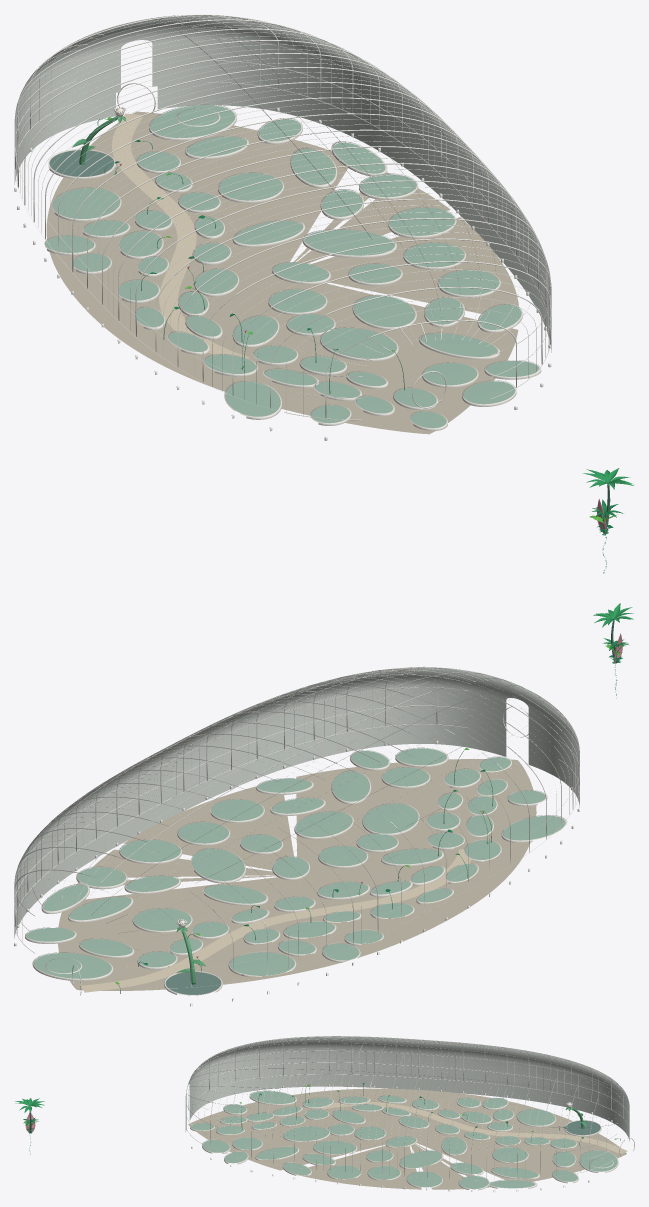
Rendered from greenhouse.glb.
3 renders of one model, top to bottom at view 1: azimuth 30°, elevation 25°; view 2: azimuth 150°, elevation 25°; view 3: azimuth 270°, elevation 25°, orthographic. The views are drawn at different scales.
Parts seen in each view (by area): view 1: greenhouse.floor, greenhouse.soil.001, greenhouse.shell, greenhouse.curb.001, greenhouse.iron.006, greenhouse.iron.001, greenhouse.iron.002, greenhouse.path, greenhouse.iron.007, greenhouse.soil.002, greenhouse.iron.003, greenhouse.iron.005 (+4 smaller); view 2: greenhouse.shell, greenhouse.floor, greenhouse.soil.001, greenhouse.curb.001, greenhouse.iron.001, greenhouse.iron.002, greenhouse.path, greenhouse.iron.006, greenhouse.soil.002, greenhouse.iron.007, greenhouse.iron.005, greenhouse.water (+3 smaller); view 3: greenhouse.shell, greenhouse.floor, greenhouse.soil.001, greenhouse.curb.001, greenhouse.iron.001, greenhouse.iron.006, greenhouse.path, greenhouse.iron.007, greenhouse.iron.002, greenhouse.soil.002, greenhouse.iron.003, greenhouse.iron.005 (+5 smaller).
Boxes of the visible parts, bbox=[...] form: greenhouse.floor: bbox=[46, 111, 518, 434]; greenhouse.soil.001: bbox=[45, 130, 539, 428]; greenhouse.shell: bbox=[14, 15, 551, 352]; greenhouse.curb.001: bbox=[44, 150, 541, 430]; greenhouse.iron.006: bbox=[48, 14, 443, 378]; greenhouse.iron.001: bbox=[271, 124, 551, 409]; greenhouse.iron.002: bbox=[213, 33, 477, 229]; greenhouse.path: bbox=[112, 113, 249, 358]; greenhouse.iron.007: bbox=[57, 201, 255, 418]; greenhouse.soil.002: bbox=[150, 105, 301, 156]; greenhouse.iron.003: bbox=[14, 50, 128, 224]; greenhouse.iron.005: bbox=[152, 15, 354, 135]; greenhouse.shell: bbox=[14, 667, 579, 938]; greenhouse.floor: bbox=[58, 759, 536, 990]; greenhouse.soil.001: bbox=[43, 748, 565, 975]; greenhouse.curb.001: bbox=[48, 747, 567, 977]; greenhouse.iron.001: bbox=[145, 666, 508, 822]; greenhouse.iron.002: bbox=[27, 738, 266, 911]; greenhouse.path: bbox=[81, 849, 471, 992]; greenhouse.iron.006: bbox=[37, 674, 556, 936]; greenhouse.soil.002: bbox=[26, 928, 132, 978]; greenhouse.iron.007: bbox=[403, 740, 574, 932]; greenhouse.iron.005: bbox=[14, 824, 86, 984]; greenhouse.water: bbox=[165, 972, 220, 995]; greenhouse.shell: bbox=[185, 1036, 629, 1141]; greenhouse.floor: bbox=[188, 1088, 626, 1189]; greenhouse.soil.001: bbox=[191, 1091, 576, 1188]; greenhouse.curb.001: bbox=[190, 1090, 575, 1190]; greenhouse.iron.001: bbox=[186, 1053, 400, 1187]; greenhouse.iron.006: bbox=[188, 1036, 626, 1124]; greenhouse.path: bbox=[321, 1101, 627, 1153]; greenhouse.iron.007: bbox=[255, 1036, 462, 1093]; greenhouse.iron.002: bbox=[398, 1073, 542, 1191]; greenhouse.soil.002: bbox=[556, 1151, 617, 1181]; greenhouse.iron.003: bbox=[528, 1051, 621, 1122]; greenhouse.iron.005: bbox=[540, 1105, 621, 1190].
Bounding box in the file's own units: 77.31 × 33.79 × 191.
